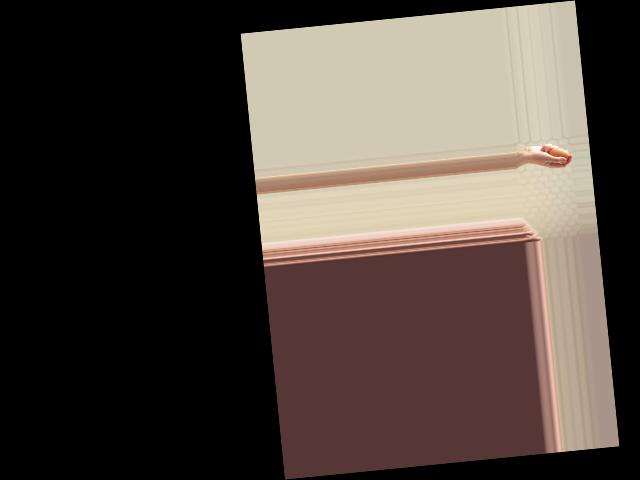egg: (548, 145, 569, 163)
